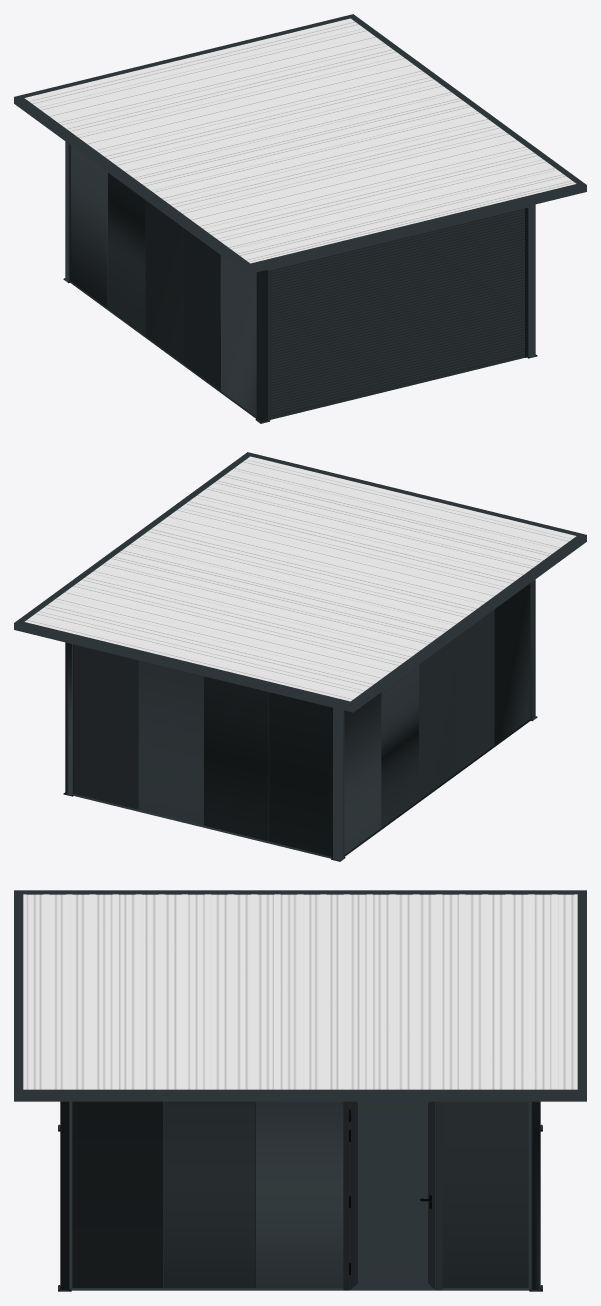
3 views of the same model, one above another, from view 1: azimuth 30°, elevation 25°; view 2: azimuth 150°, elevation 25°; view 3: azimuth 270°, elevation 25° (orthographic). The views are drawn at different scales.
Visible parts, largest first — view 1: priximbattable_net_abris_de_voiture_640017_garage_toit_plat_, lame_7, lame_6, lame_3, lame_2, lame_1, lame_14, lame_12, lame_11, lame_9, lame_8, lame_5 (+9 smaller); view 2: priximbattable_net_abris_de_voiture_640017_garage_toit_plat_; view 3: priximbattable_net_abris_de_voiture_640017_garage_toit_plat_, folha, porta.
Part boxes in pixels (left/top/right/bottom): priximbattable_net_abris_de_voiture_640017_garage_toit_plat_: left=14, top=14, right=586, bottom=423; lame_7: left=270, top=280, right=524, bottom=350; lame_6: left=270, top=289, right=524, bottom=358; lame_3: left=270, top=313, right=524, bottom=383; lame_2: left=270, top=321, right=524, bottom=391; lame_1: left=270, top=330, right=524, bottom=399; lame_14: left=270, top=223, right=524, bottom=293; lame_12: left=270, top=239, right=524, bottom=309; lame_11: left=270, top=248, right=524, bottom=317; lame_9: left=270, top=264, right=524, bottom=334; lame_8: left=270, top=272, right=524, bottom=342; lame_5: left=270, top=297, right=524, bottom=366; priximbattable_net_abris_de_voiture_640017_garage_toit_plat_: left=14, top=452, right=586, bottom=861; priximbattable_net_abris_de_voiture_640017_garage_toit_plat_: left=14, top=890, right=586, bottom=1291; folha: left=349, top=1101, right=435, bottom=1290; porta: left=343, top=1101, right=442, bottom=1290.
Size of the model in its own units: 520 by 259 by 620.
1 material, 1 textured.
